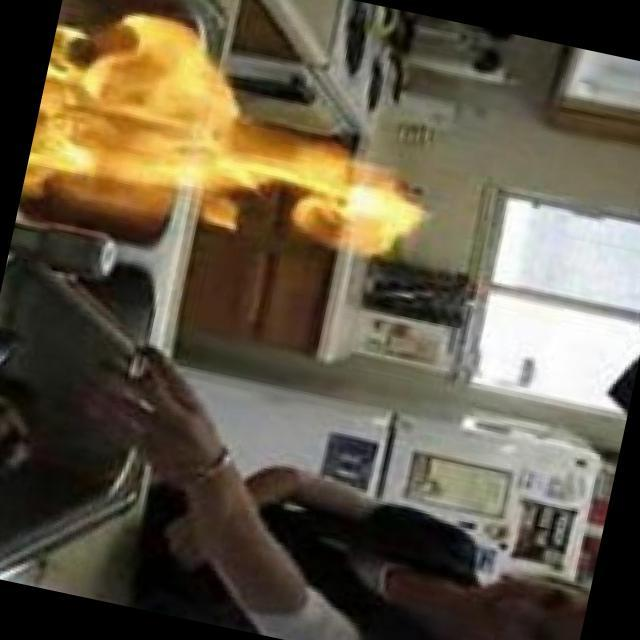Fire: (20, 1, 277, 241), (220, 113, 445, 268)
